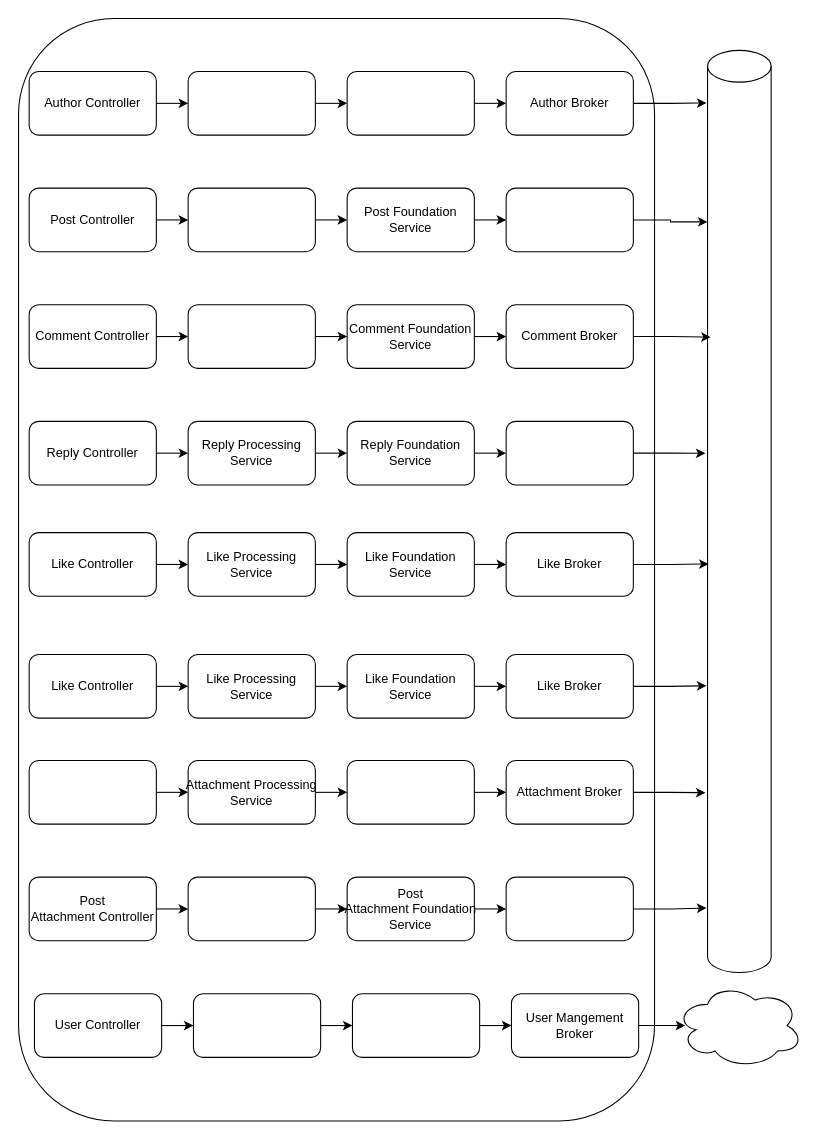
The diagram is 821 pixels wide and 1139 high, and some of its shapes have lost their labels. Here are the shapes that lost their labels. From the top down, the centre of each, then its label:
At [251,102]: "Author Processing Service".
At [410,102]: "Author Foundation Service".
At [251,219]: "Post Processing Service".
At [569,219]: "Post Broker".
At [251,336]: "Comment Processing Service".
At [569,452]: "Reply Broker".
At [92,791]: "Attachment Controller".
At [410,791]: "Attachment Foundation Service".
At [251,908]: "Post Attachment Processing Service".
At [569,908]: "Post Attachment Broker".
At [256,1025]: "User Processing Service".
At [415,1025]: "User Foundation Service".
